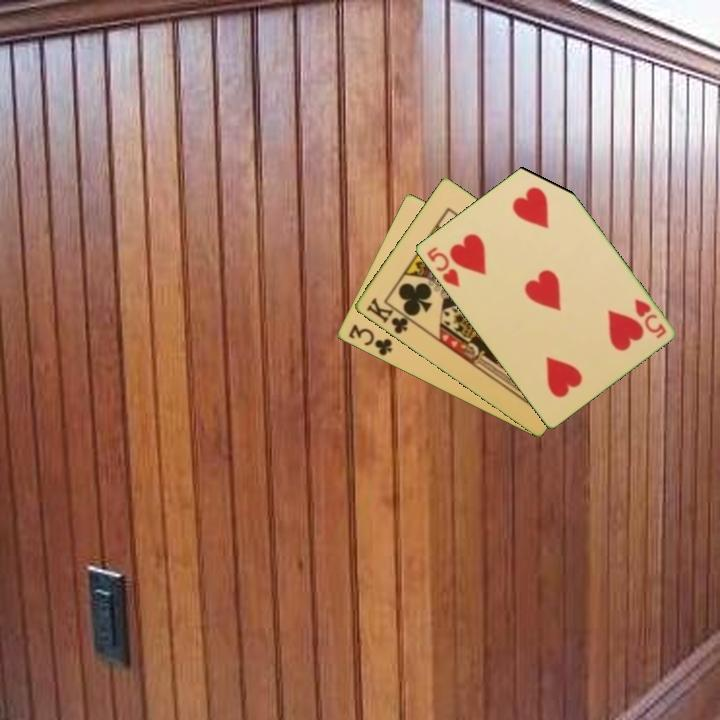3c: (345, 321, 395, 359)
5h: (423, 243, 462, 290), (630, 295, 669, 342)
Kc: (362, 294, 416, 337)
